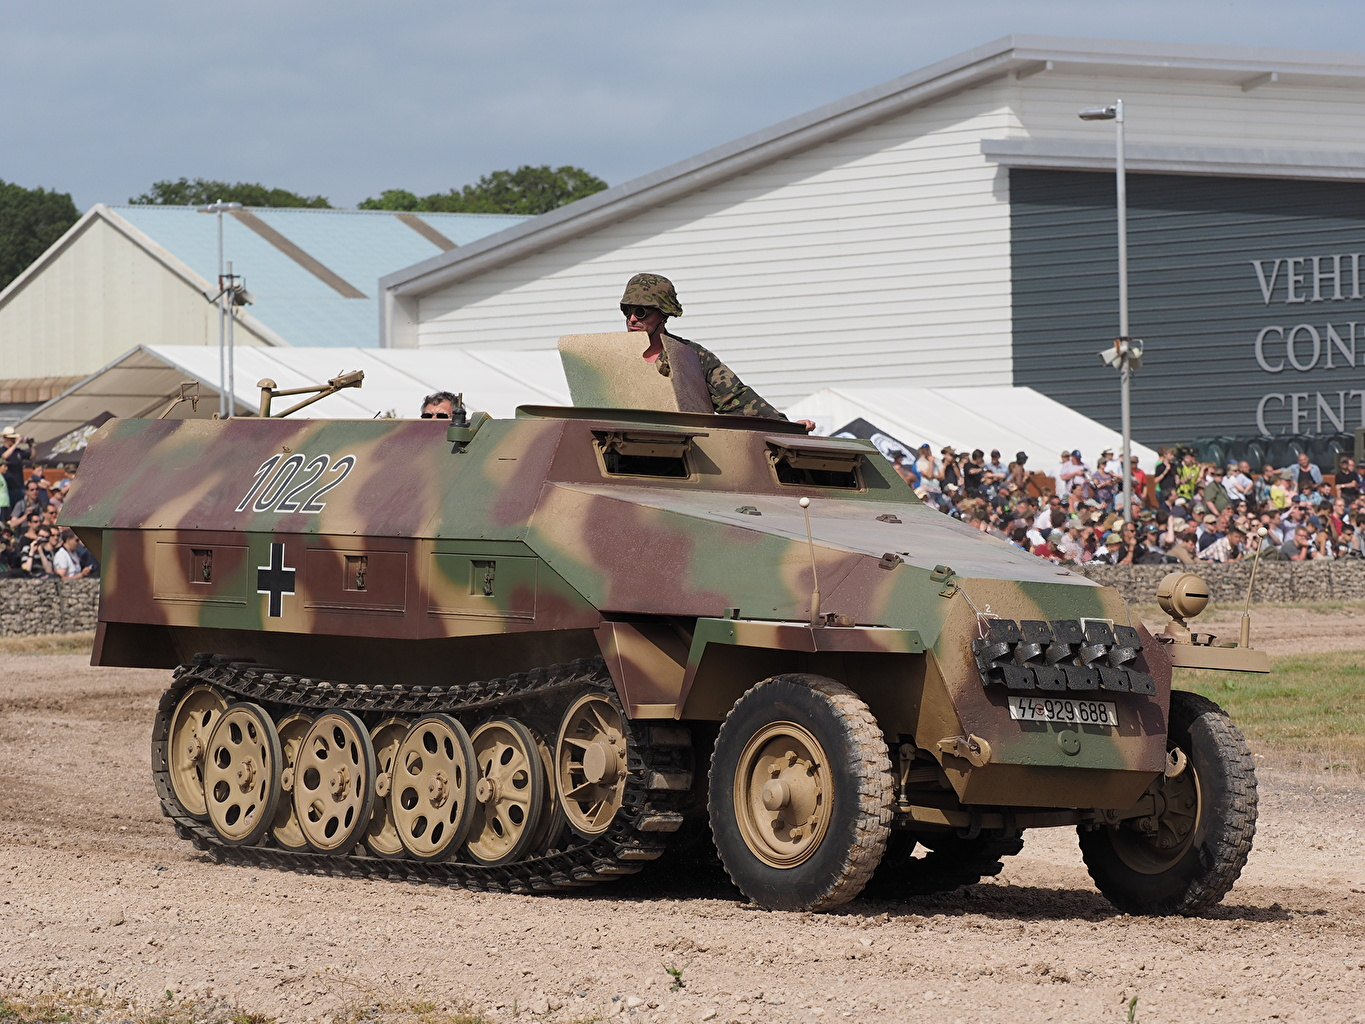btr: (73, 385, 1312, 911)
pilot: (568, 266, 809, 423), (403, 385, 482, 436)
